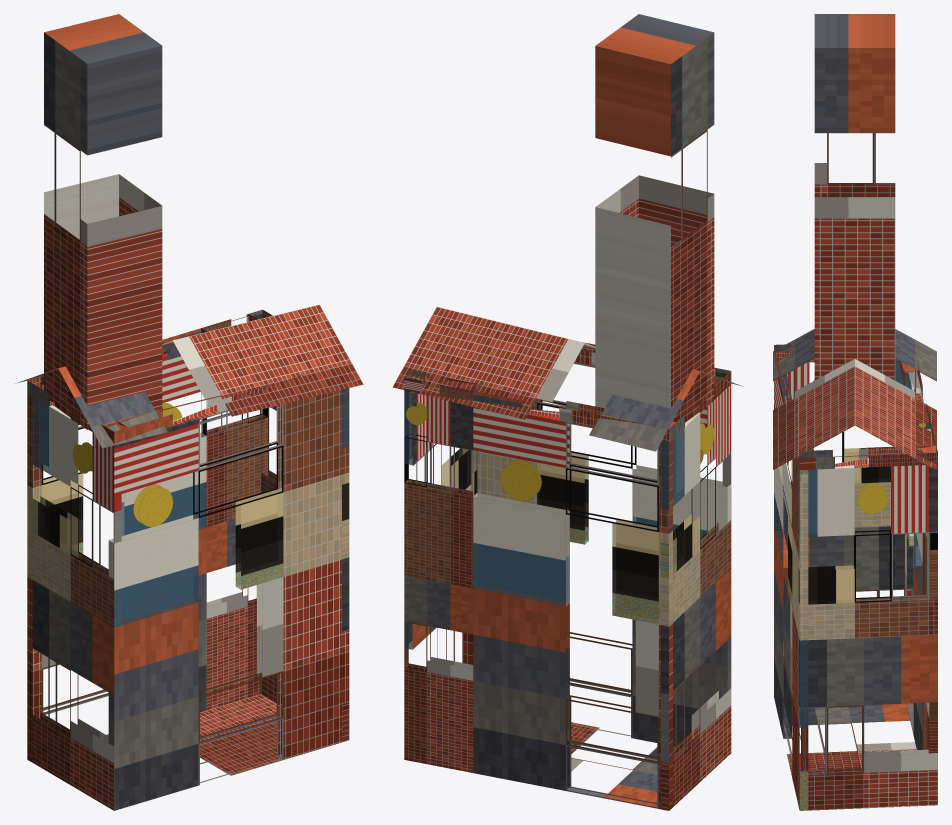
3 renders of one model, left to right at view 1: azimuth 30°, elevation 25°; view 2: azimuth 150°, elevation 25°; view 3: azimuth 270°, elevation 25°, orthographic. The views are drawn at different scales.
Visible parts, largest first — view 1: 238528918__wall_0_xb, 238528918__chimney_0_xb, 238528918__wall_4_xb, 238528918_roof_-1_xb, 238528918__wall_2_xb, 238528918__wall_3_xb, 238528918__wall_0_xf, 238528918__base, 238528918__wall_1_xb, 238528918__wall_4_xf, 238528918__wall_3_xf, 238528918__cornice_0 (+2 smaller); view 2: 238528918__wall_3_xb, 238528918__chimney_0_xb, 238528918__wall_2_xb, 238528918__wall_4_xb, 238528918_roof_1_xb, 238528918__wall_0_xb, 238528918__wall_3_xf, 238528918__wall_1_xb, 238528918__wall_4_xf, 238528918__wall_0_xf, 238528918__base, 238528918__cornice_3 (+2 smaller); view 3: 238528918__wall_1_xb, 238528918__chimney_0_xb, 238528918__wall_0_xb, 238528918__wall_4_xb, 238528918_roof_-1_xb, 238528918_roof_1_xb, 238528918__base, 238528918__wall_1_xf, 238528918__cornice_1, 238528918__wall_0_xf, 238528918__wall_3_xb, 238528918__wall_2_xb (+4 smaller).
Part boxes in pixels (box(x1,y1,x2,y2)): 238528918__wall_0_xb: box(108, 388, 349, 810); 238528918__chimney_0_xb: box(44, 14, 162, 429); 238528918__wall_4_xb: box(32, 397, 121, 810); 238528918_roof_-1_xb: box(58, 304, 363, 448); 238528918__wall_2_xb: box(201, 393, 267, 710); 238528918__wall_3_xb: box(27, 353, 206, 762); 238528918__wall_0_xf: box(114, 490, 282, 626); 238528918__base: box(200, 694, 281, 783); 238528918__wall_1_xb: box(260, 388, 349, 742); 238528918__wall_4_xf: box(33, 397, 77, 553); 238528918__wall_3_xf: box(42, 473, 206, 553); 238528918__cornice_0: box(104, 374, 306, 443); 238528918__wall_3_xb: box(473, 407, 672, 810); 238528918__chimney_0_xb: box(595, 14, 714, 422); 238528918__wall_2_xb: box(404, 396, 477, 772); 238528918__wall_4_xb: box(660, 384, 731, 810); 238528918_roof_1_xb: box(392, 307, 699, 451); 238528918__wall_0_xb: box(462, 362, 731, 746); 238528918__wall_3_xf: box(473, 501, 658, 623); 238528918__wall_1_xb: box(404, 391, 471, 662); 238528918__wall_4_xf: box(661, 428, 699, 577); 238528918__wall_0_xf: box(537, 453, 706, 544); 238528918__base: box(571, 722, 674, 807); 238528918__cornice_3: box(473, 384, 676, 441); 238528918__wall_1_xb: box(798, 464, 937, 810); 238528918__chimney_0_xb: box(814, 14, 895, 380); 238528918__wall_0_xb: box(774, 374, 808, 810); 238528918__wall_4_xb: box(774, 359, 913, 698); 238528918_roof_-1_xb: box(773, 329, 854, 469); 238528918_roof_1_xb: box(855, 329, 936, 469); 238528918__base: box(783, 702, 916, 777); 238528918__wall_1_xf: box(799, 470, 854, 603); 238528918__cornice_1: box(799, 445, 937, 469); 238528918__wall_0_xf: box(774, 470, 807, 810); 238528918__wall_3_xb: box(904, 369, 923, 749); 238528918__wall_2_xb: box(922, 533, 937, 753).
Bounding box in the file's own units: 0.5233 × 1.4 × 0.307.
Materials: 1 (1 with a texture image).
